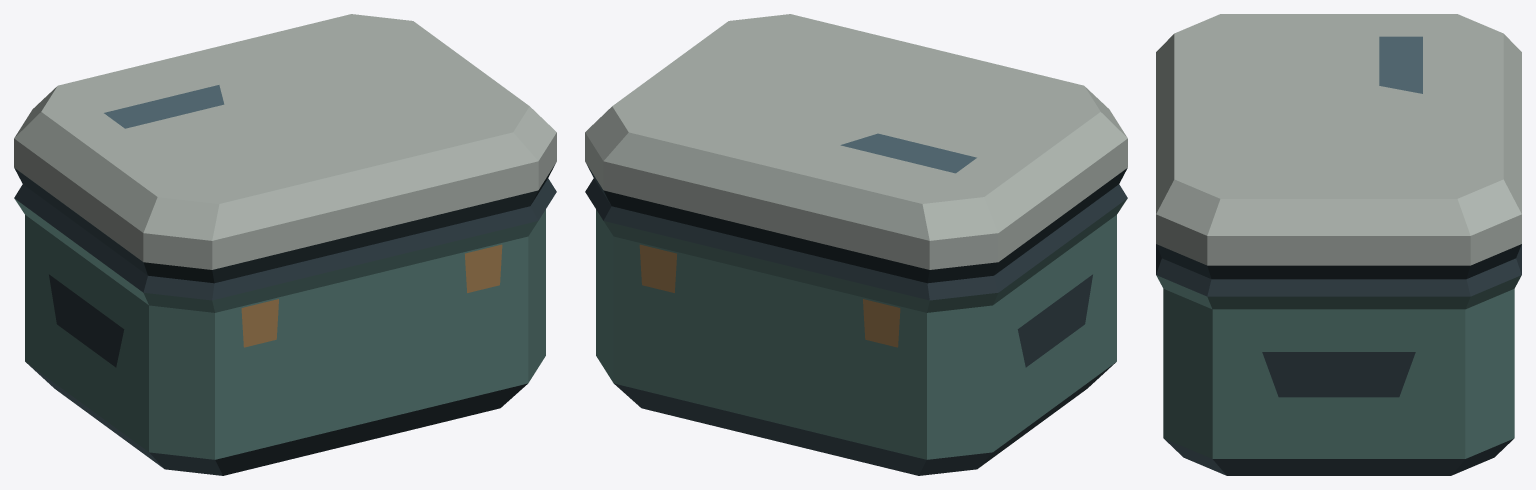
The model's file is K-09_slat_crate_small.glb.
The picture shows the model from 3 angles, left to right: view 1: azimuth 30°, elevation 25°; view 2: azimuth 150°, elevation 25°; view 3: azimuth 270°, elevation 25°; orthographic projection.
Visible parts, largest first — view 1: K-09_slat_crate_small; view 2: K-09_slat_crate_small; view 3: K-09_slat_crate_small.
Boxes of the visible parts, x1,y1,x2,y2 form: K-09_slat_crate_small: [14, 14, 556, 475]; K-09_slat_crate_small: [585, 14, 1127, 475]; K-09_slat_crate_small: [1156, 14, 1521, 475].
Bounding box in the file's own units: 0.394 × 0.2525 × 0.2966.
